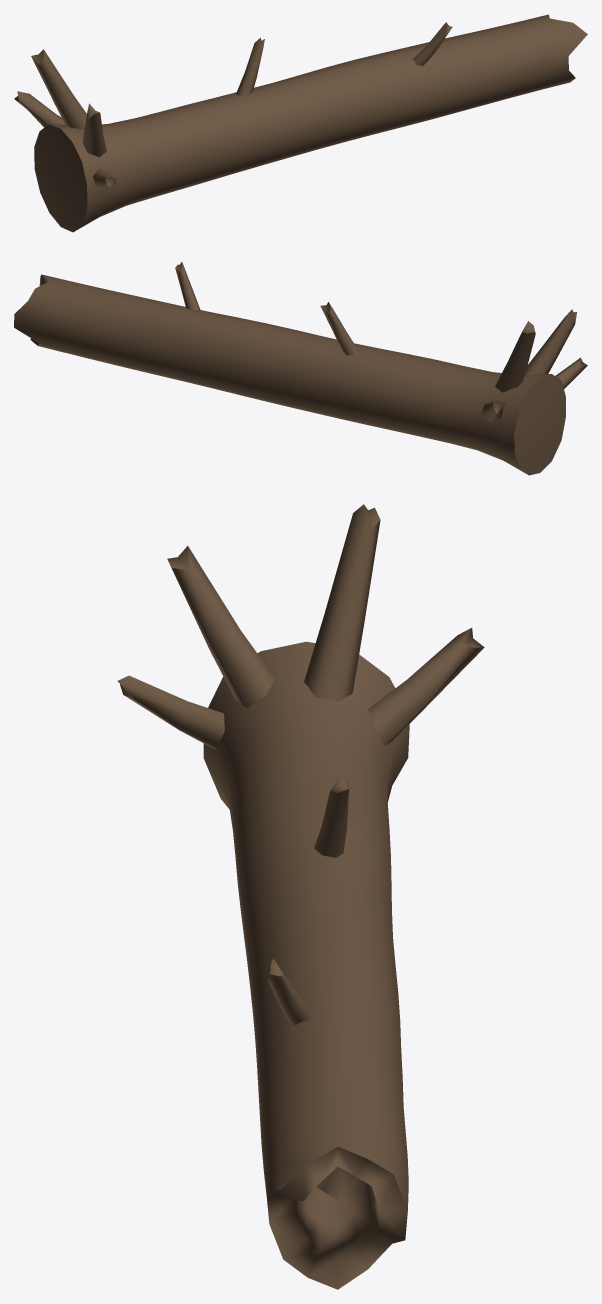
The model's file is log_fallen.glb.
The picture shows the model from 3 angles, top to bottom: view 1: azimuth 30°, elevation 25°; view 2: azimuth 150°, elevation 25°; view 3: azimuth 270°, elevation 25°; orthographic projection. The views are drawn at different scales.
Visible parts, largest first — view 1: log_fallen_lod0; view 2: log_fallen_lod0; view 3: log_fallen_lod0.
Boxes of the visible parts, left/top/right/bottom form: log_fallen_lod0: left=14, top=14, right=587, bottom=232; log_fallen_lod0: left=14, top=262, right=587, bottom=475; log_fallen_lod0: left=117, top=504, right=484, bottom=1289.
Size of what is drawn, in the model's own units: 3.79 by 1.14 by 1.16.
